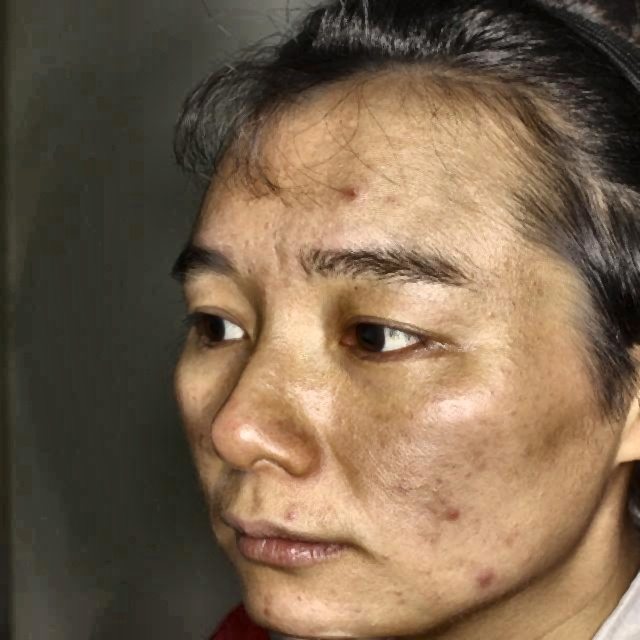comedone: (470, 566, 509, 591), (339, 181, 368, 208), (259, 597, 284, 624), (439, 503, 462, 525)
